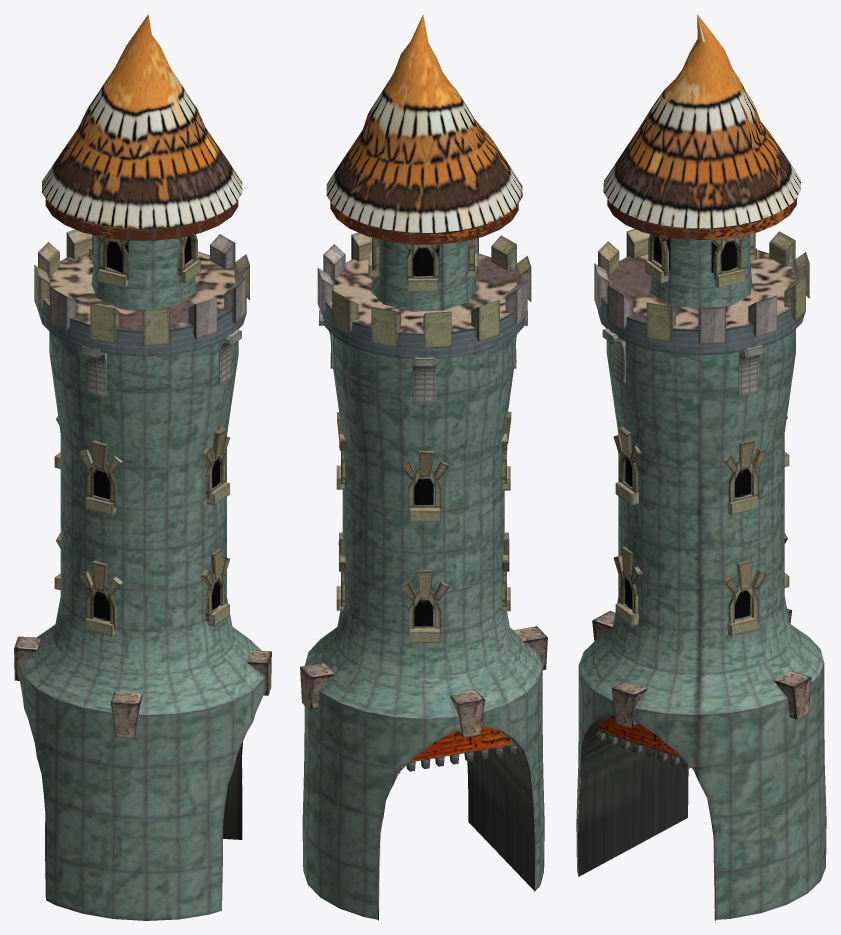
Rendered from Tower.fbx.
3 views of the same model, side by side, from view 1: azimuth 30°, elevation 25°; view 2: azimuth 150°, elevation 25°; view 3: azimuth 270°, elevation 25° (orthographic).
Parts seen in each view (by area): view 1: Mesh; view 2: Mesh; view 3: Mesh.
Part boxes in pixels (x1,y1,x2,y2): Mesh: [14, 14, 271, 920]; Mesh: [300, 14, 547, 920]; Mesh: [576, 14, 826, 920].
Size of the model in its own units: 1293 by 5023 by 1329.
